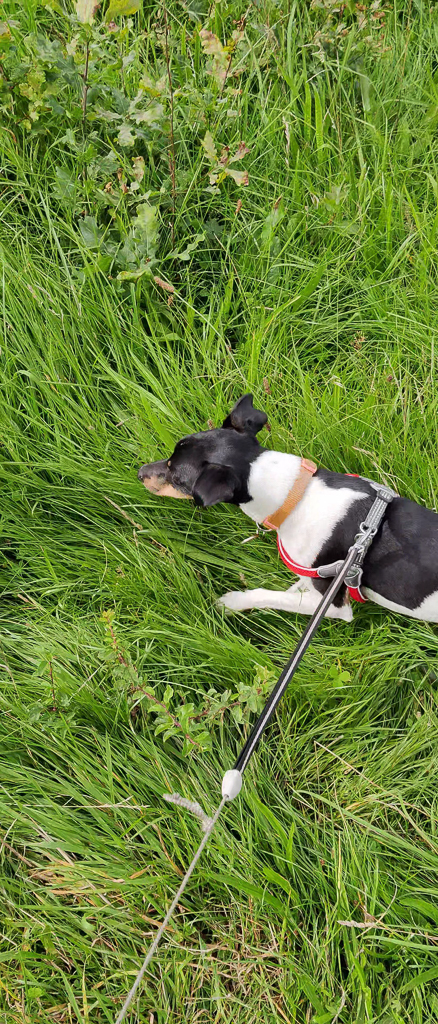Dog: (132, 386, 438, 664)
